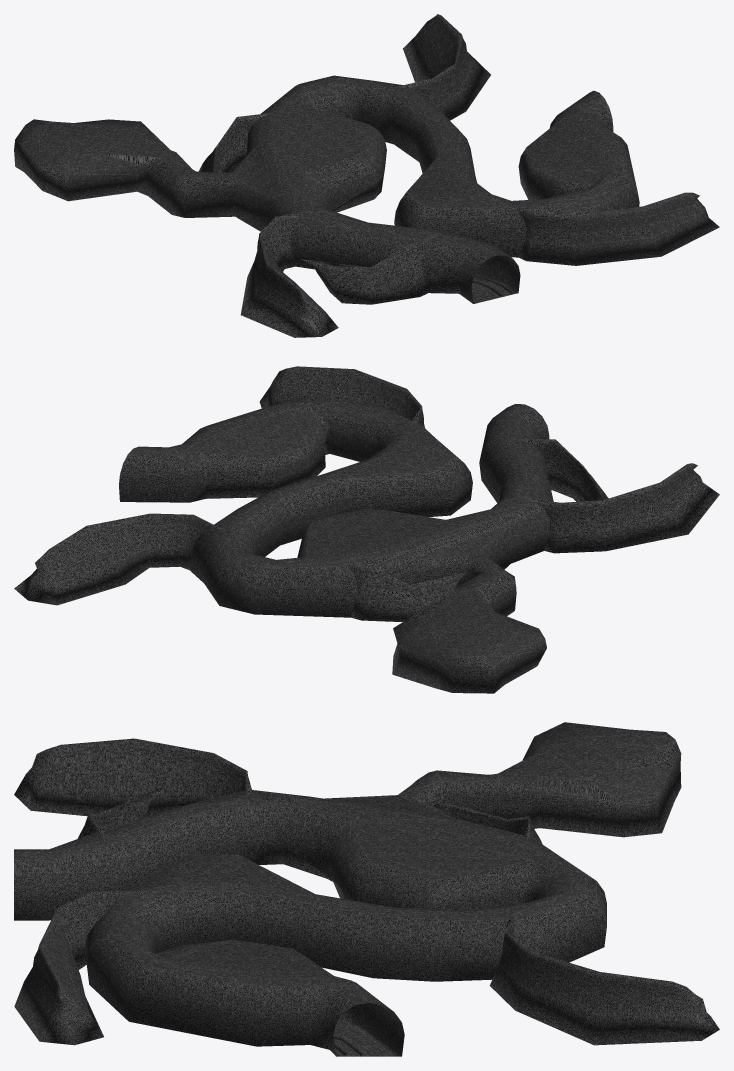
Rendered from R Cave.fbx.
The picture shows the model from 3 angles, top to bottom: view 1: azimuth 30°, elevation 25°; view 2: azimuth 150°, elevation 25°; view 3: azimuth 270°, elevation 25°; orthographic projection. The views are drawn at different scales.
Parts seen in each view (by area): view 1: polySurface4, Tunnel_6, Tunnel_1, Tunnel_2, Tunnel_3, Tunnel_5; view 2: polySurface4, Tunnel_2, Tunnel_1, Tunnel_6, Tunnel_5, Tunnel_3; view 3: polySurface4, Tunnel_2, Tunnel_1, Tunnel_6, Tunnel_3, Tunnel_5.
Boxes of the visible parts, x1,y1,x2,y2 form: polySurface4: (14,75,639,303); Tunnel_6: (509,192,719,265); Tunnel_1: (240,212,338,337); Tunnel_2: (395,14,490,120); Tunnel_3: (301,237,431,304); Tunnel_5: (198,113,270,172); polySurface4: (119,400,553,693); Tunnel_2: (14,513,222,605); Tunnel_1: (526,463,719,553); Tunnel_6: (259,366,424,427); Tunnel_5: (339,562,467,621); Tunnel_3: (516,439,608,501); polySurface4: (14,722,681,1056); Tunnel_2: (489,914,719,1045); Tunnel_1: (14,738,251,817); Tunnel_6: (14,891,138,1045); Tunnel_3: (77,787,163,838); Tunnel_5: (433,803,542,843).
Size of the model in its own units: 19.82 by 1.97 by 19.88.
